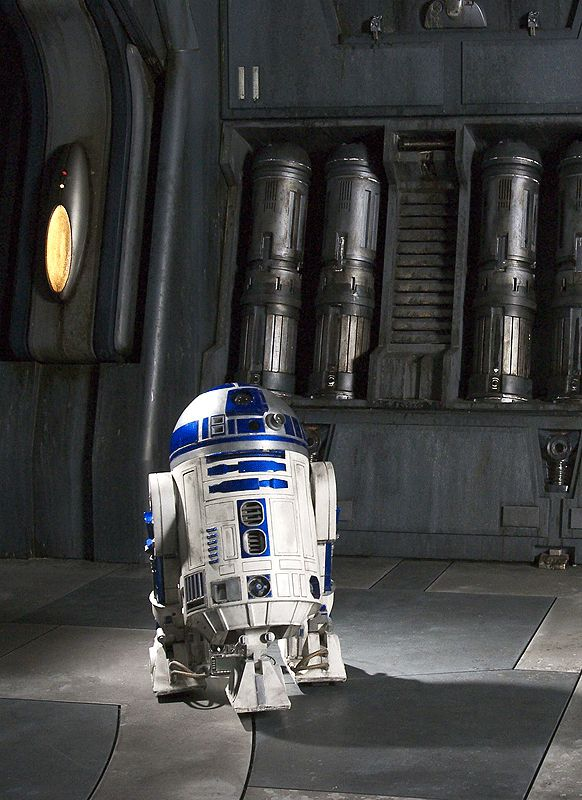r2d2: (143, 383, 347, 714)
